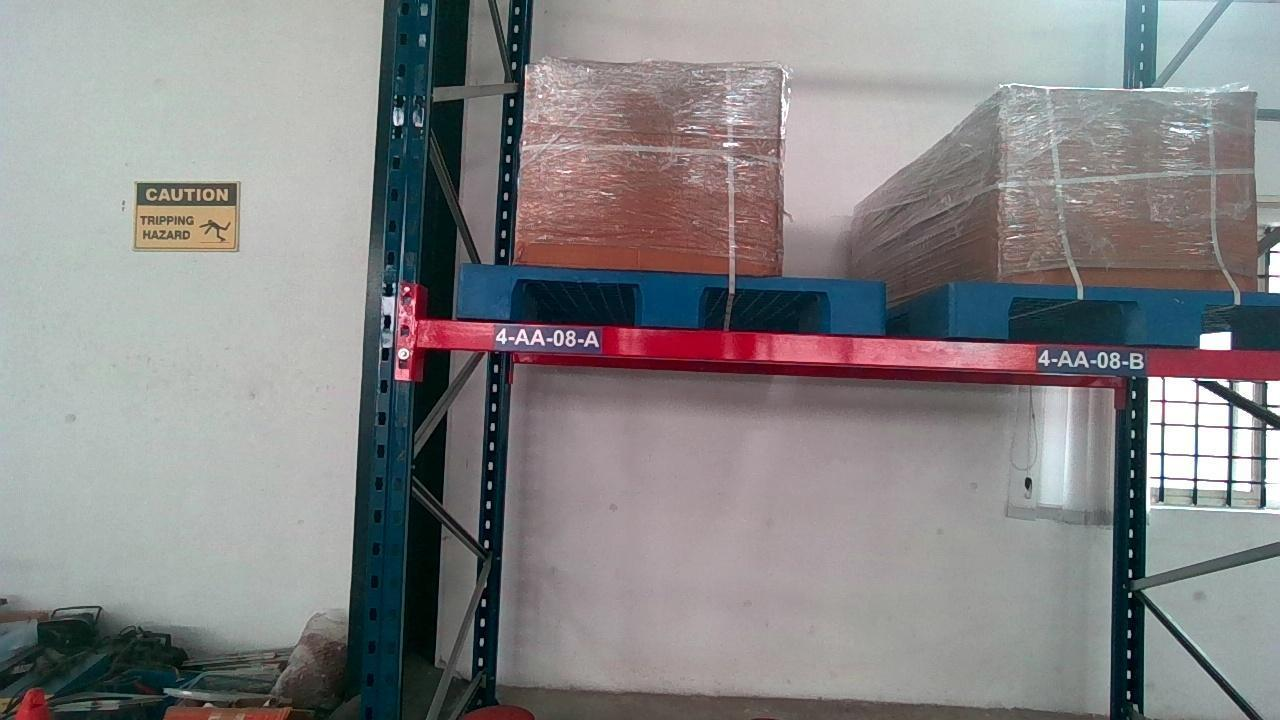h_rack: (426, 325, 1280, 375)
small_pallet: (458, 266, 886, 328), (949, 282, 1280, 343)
